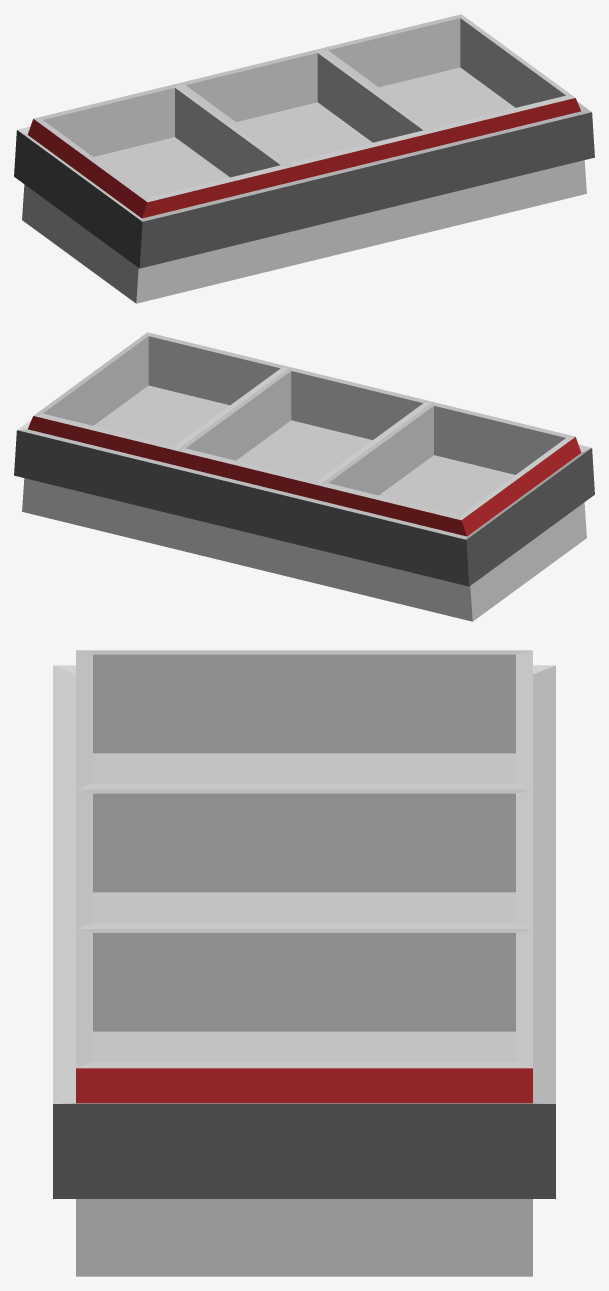
Rendered from HFreezer.glb.
3 renders of one model, top to bottom at view 1: azimuth 30°, elevation 25°; view 2: azimuth 150°, elevation 25°; view 3: azimuth 270°, elevation 25°, orthographic. The views are drawn at different scales.
Parts seen in each view (by area): view 1: Cube.014; view 2: Cube.014; view 3: Cube.014.
Part boxes in pixels (x1,y1,x2,y2): Cube.014: (14, 14, 594, 303); Cube.014: (14, 332, 594, 621); Cube.014: (53, 650, 555, 1276).
Bounding box in the file's own units: 9.66 × 2.01 × 4.62.
